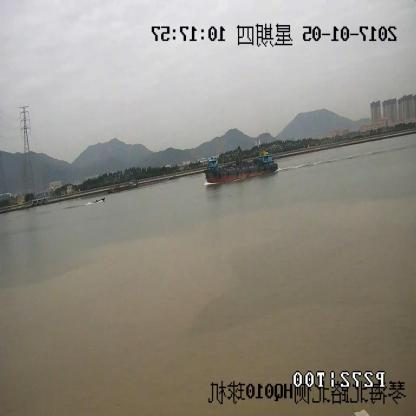Bulk Carrier: (206, 144, 276, 185)
